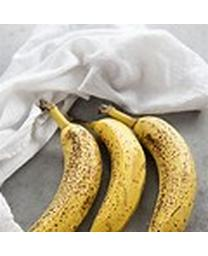banana: (0, 93, 201, 227)
